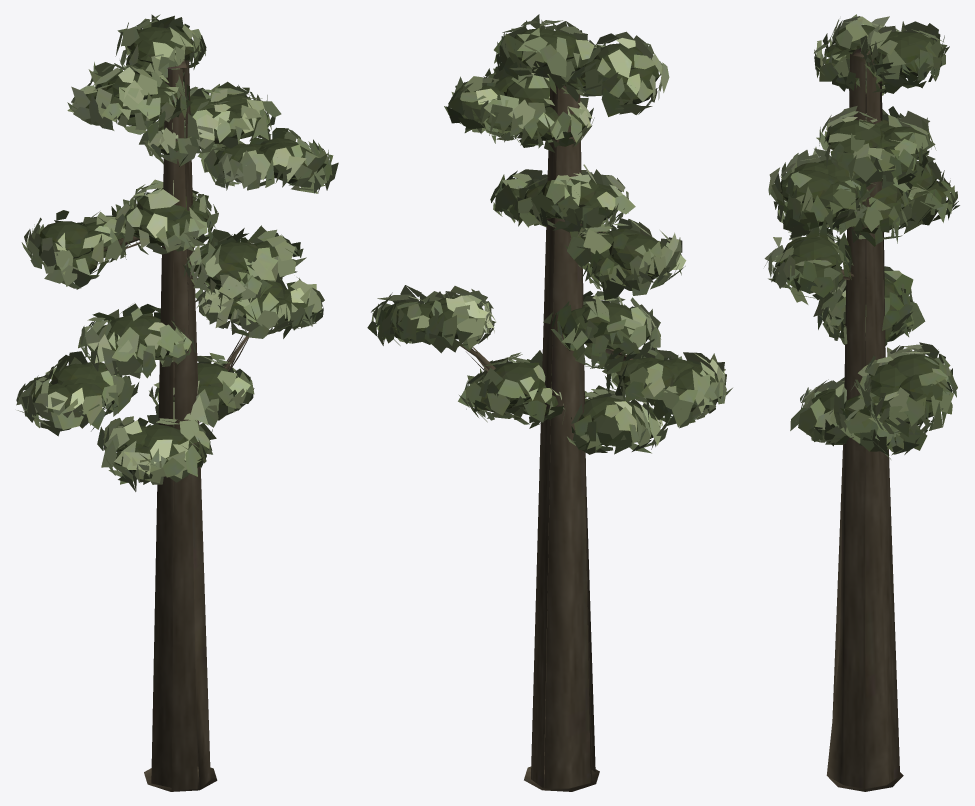
The model's file is tree_tall_a_hd.glb.
The picture shows the model from 3 angles, left to right: view 1: azimuth 30°, elevation 25°; view 2: azimuth 150°, elevation 25°; view 3: azimuth 270°, elevation 25°; orthographic projection. The views are drawn at different scales.
Visible parts, largest first — view 1: tree_tall_a; view 2: tree_tall_a; view 3: tree_tall_a.
Part boxes in pixels (left/top/right/bottom): tree_tall_a: left=16, top=14, right=338, bottom=791; tree_tall_a: left=367, top=14, right=732, bottom=791; tree_tall_a: left=764, top=14, right=959, bottom=791.
Bounding box in the file's own units: 2.23 × 4.97 × 1.19.
Materials: 1 (1 with a texture image).
